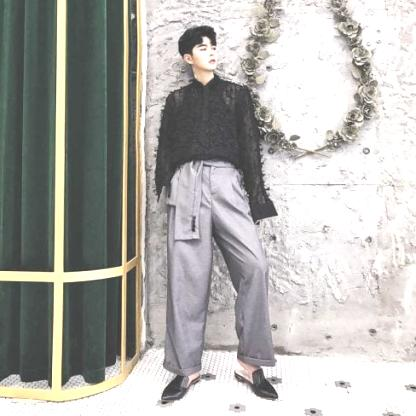dress: (165, 160, 277, 376), (154, 77, 277, 226)
